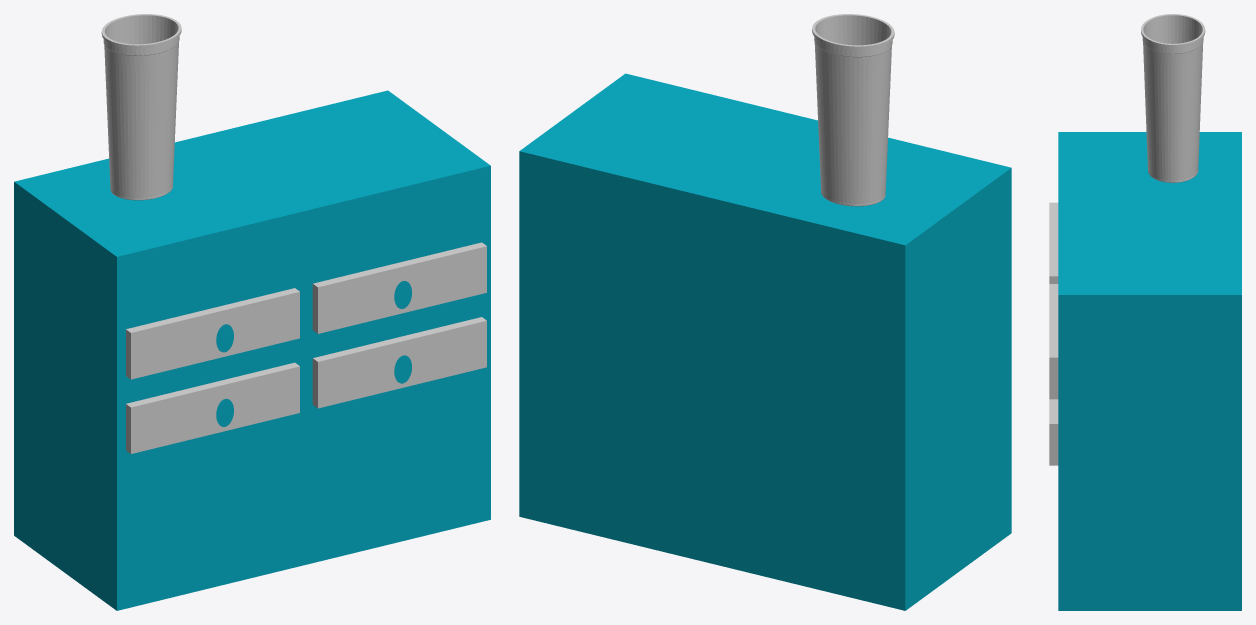
Rendered from Dazzling Kieran.glb.
The picture shows the model from 3 angles, left to right: view 1: azimuth 30°, elevation 25°; view 2: azimuth 150°, elevation 25°; view 3: azimuth 270°, elevation 25°; orthographic projection. The views are drawn at different scales.
Visible parts, largest first — view 1: Mesh_Mesh_head_geo.001_lambert2SG.001; view 2: Mesh_Mesh_head_geo.001_lambert2SG.001; view 3: Mesh_Mesh_head_geo.001_lambert2SG.001.
Boxes of the visible parts, x1,y1,x2,y2 form: Mesh_Mesh_head_geo.001_lambert2SG.001: (14,14,490,610); Mesh_Mesh_head_geo.001_lambert2SG.001: (519,14,1011,610); Mesh_Mesh_head_geo.001_lambert2SG.001: (1049,14,1241,610).
Bounding box in the file's own units: 42 × 55 × 22.
